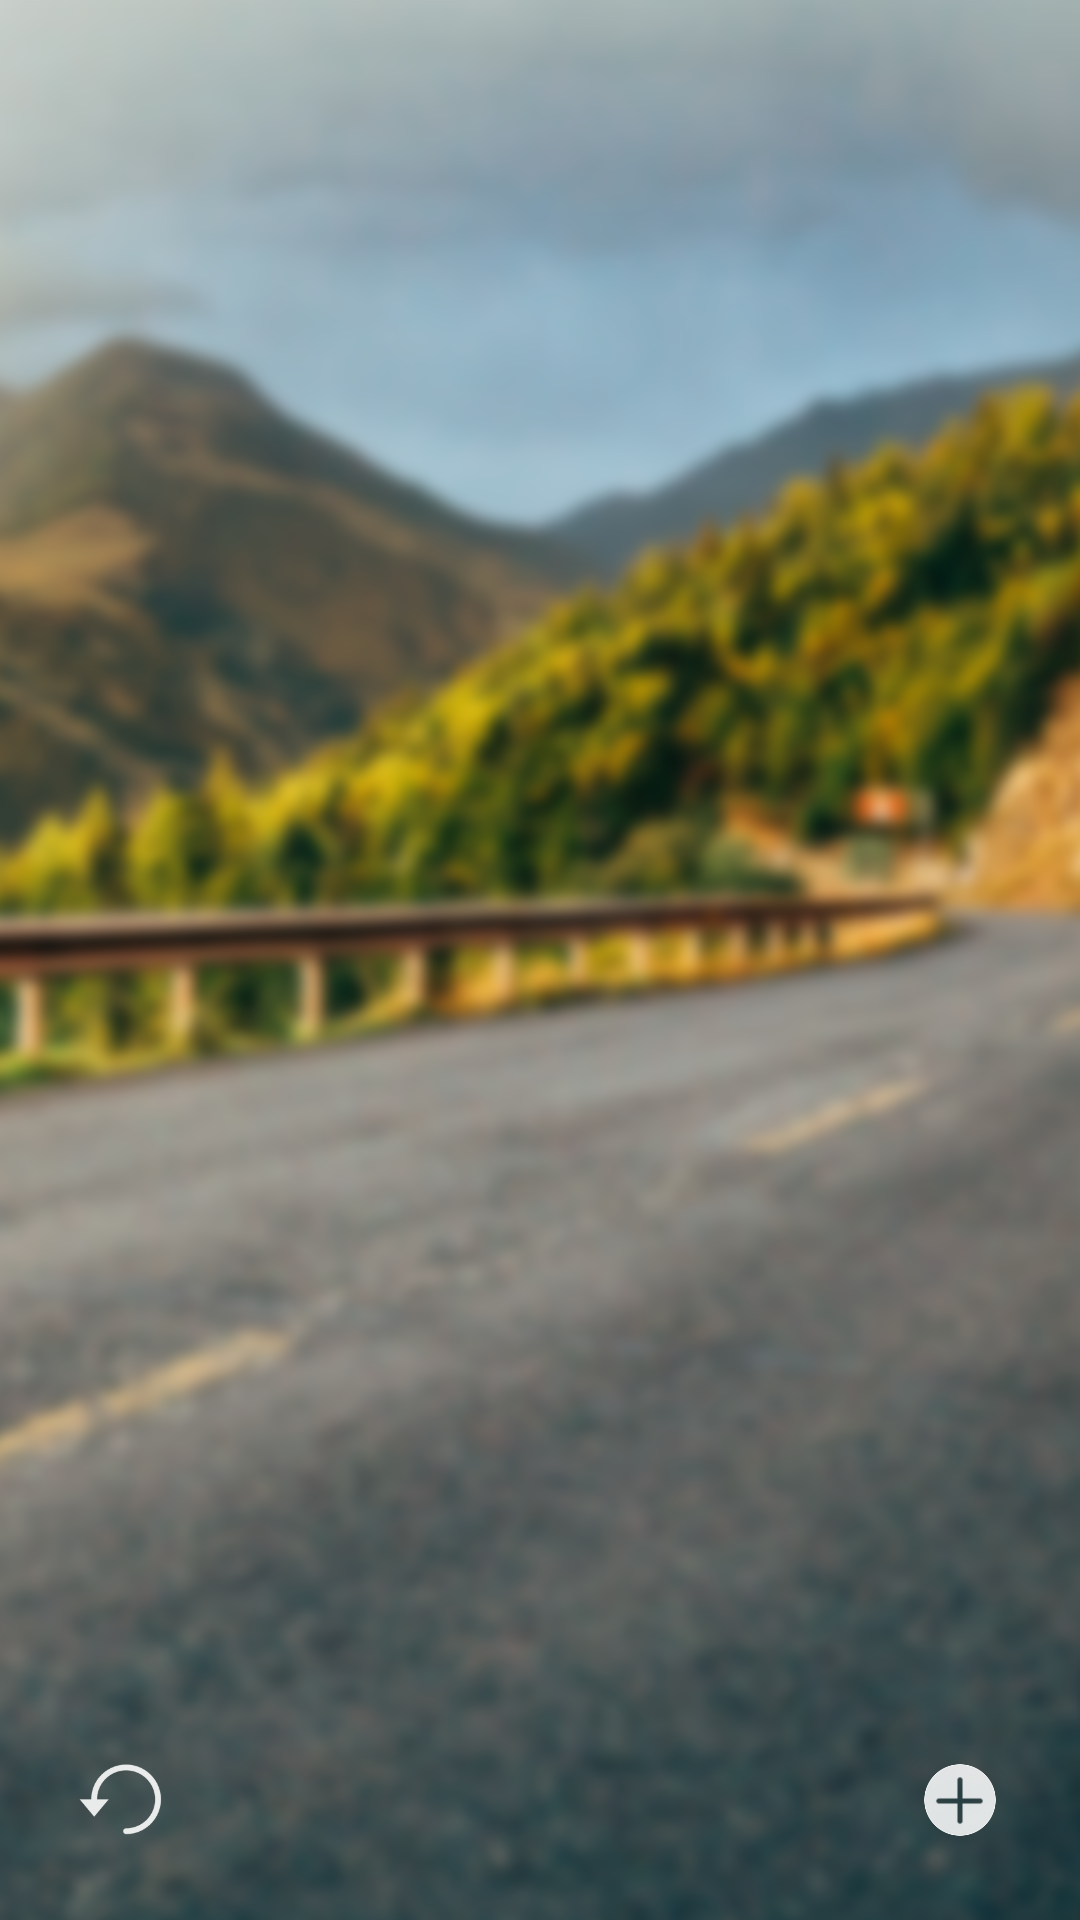

Named icons in this screenshot (1080*1920) and their bounding boxes, Rect(x1, y1, x2, y2):
add: Rect(924, 1764, 996, 1836)
refresh: Rect(80, 1764, 161, 1834)
